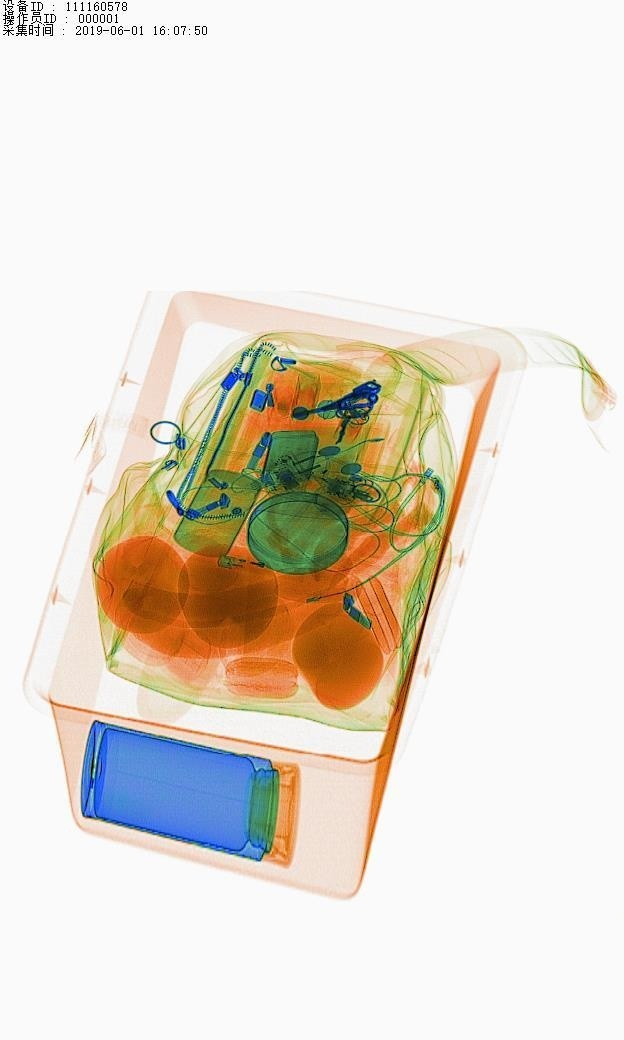NonmetallicFire: (203, 542, 310, 595)
